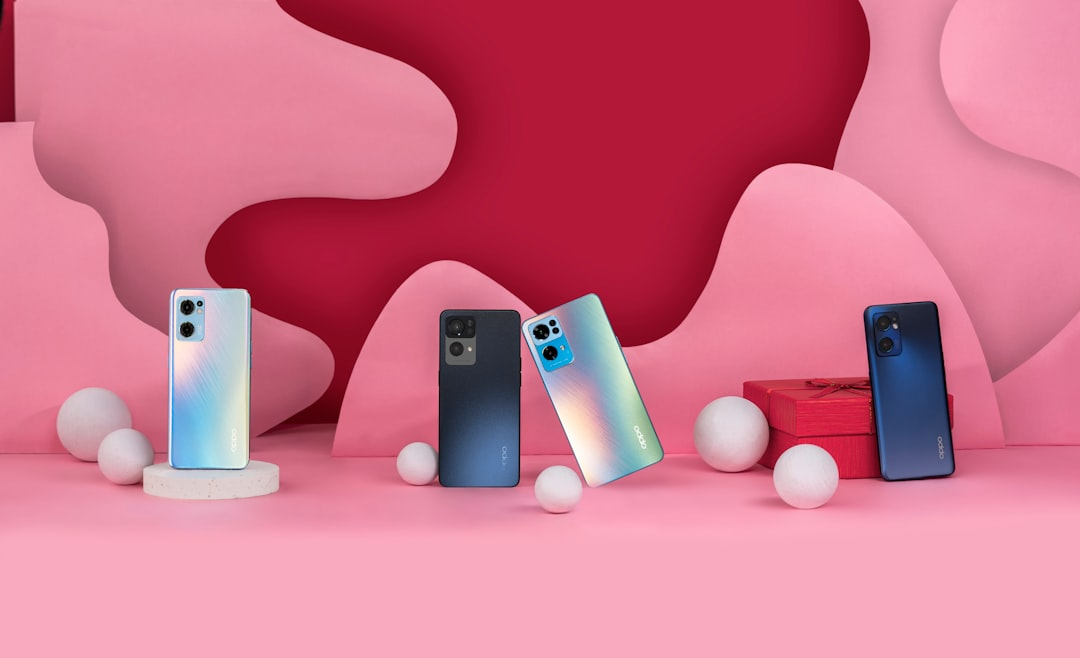phone: (522, 291, 665, 485), (863, 301, 957, 481), (436, 307, 523, 488), (168, 287, 252, 472)
